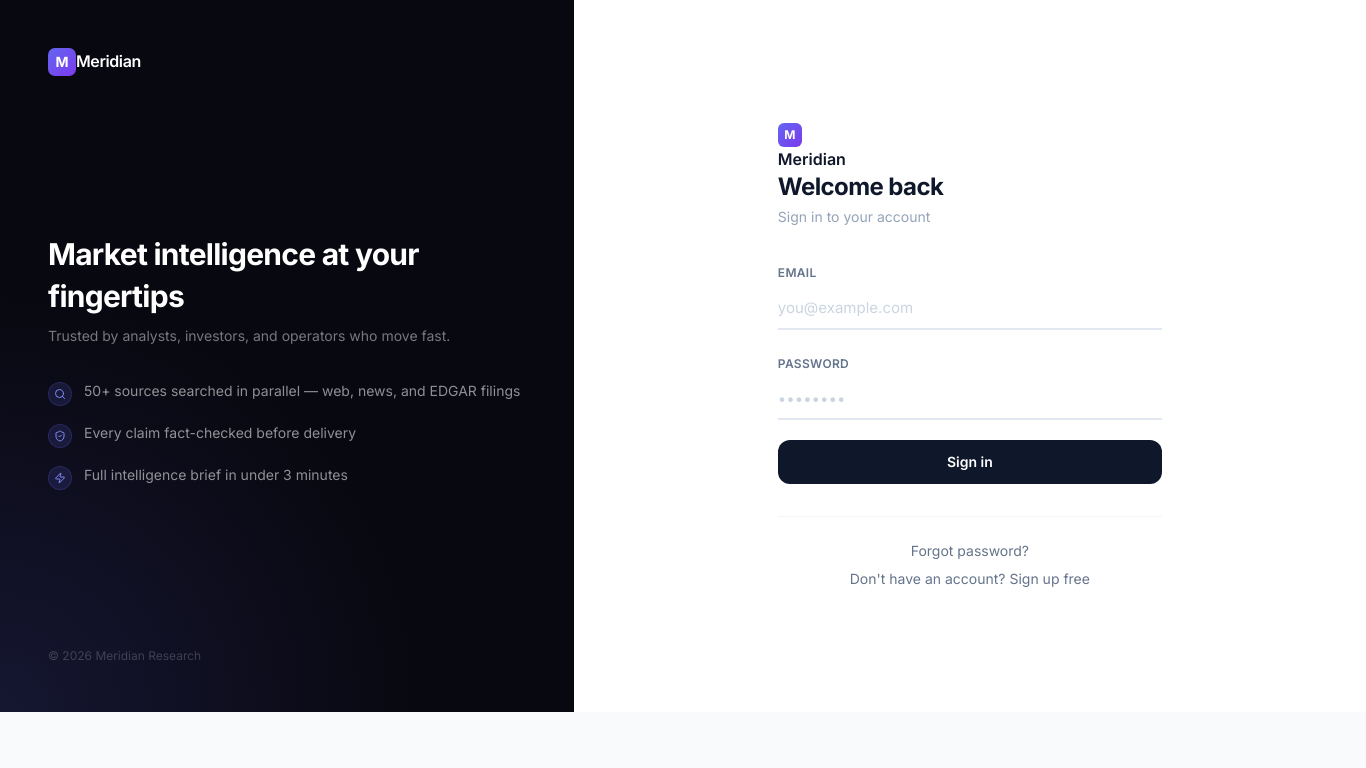
Scenario: LoginPage › shows error message on failed login
Type "test@example.com" into the field labelled "Email". click: point(970, 309)
box: [778,289,1162,330]
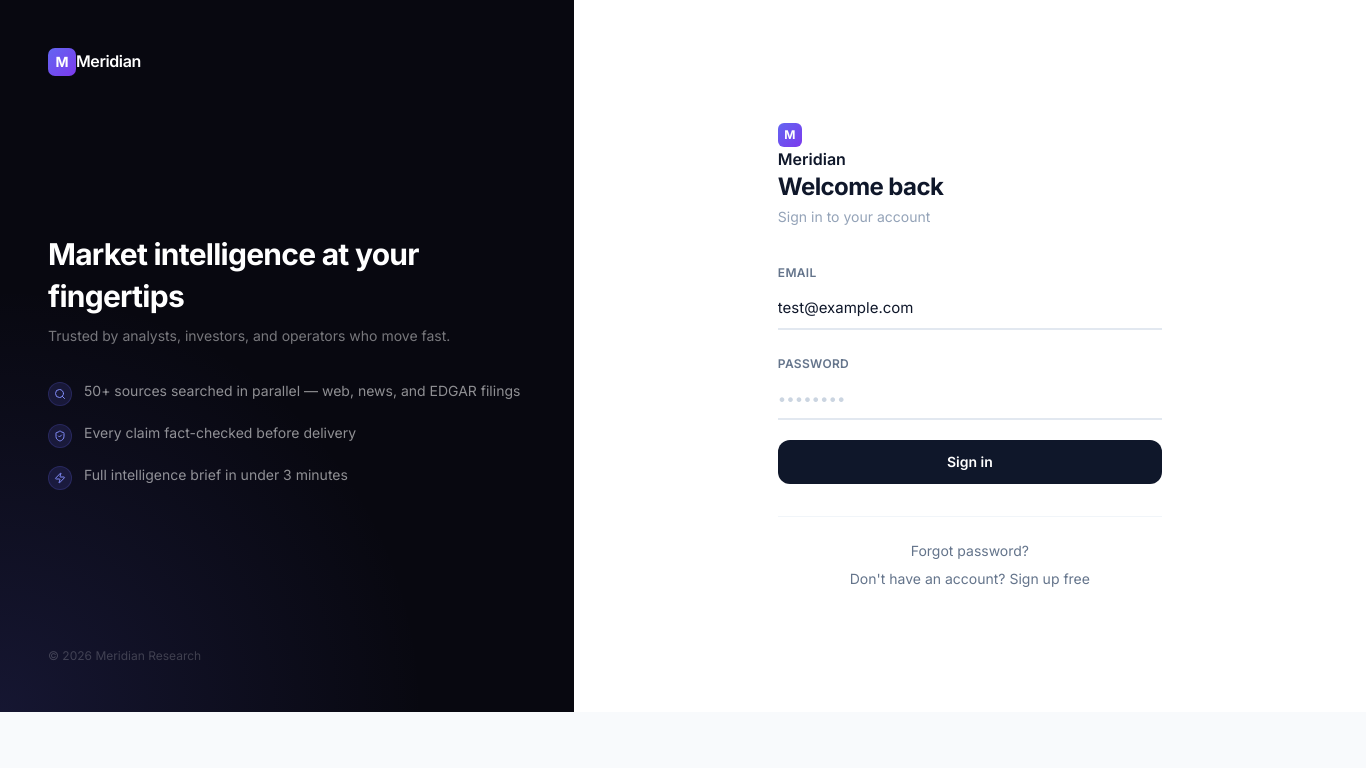
Type "wrongpassword" into the password field labelled "Password". click: point(970, 400)
box: [778,380,1162,420]
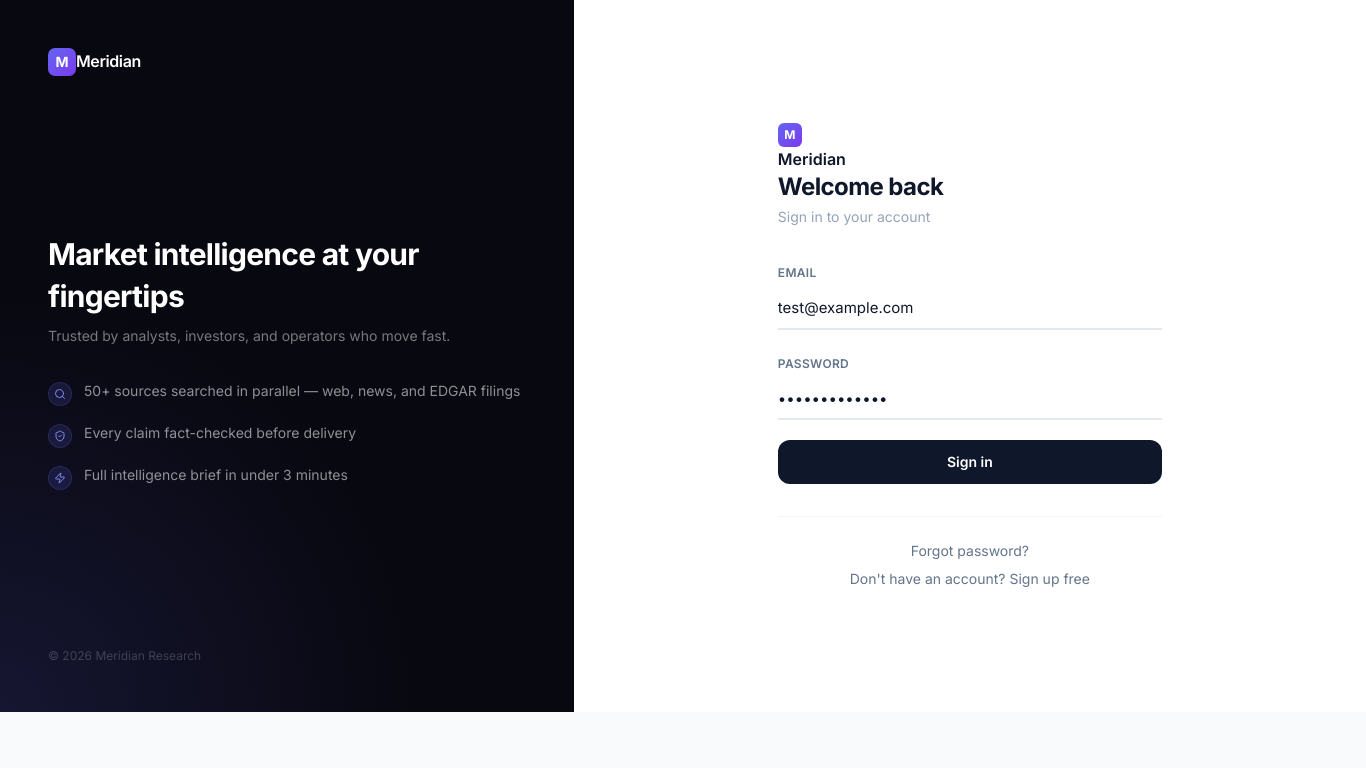
Click the button "Sign in". click: point(970, 462)
box: [778,440,1162,484]
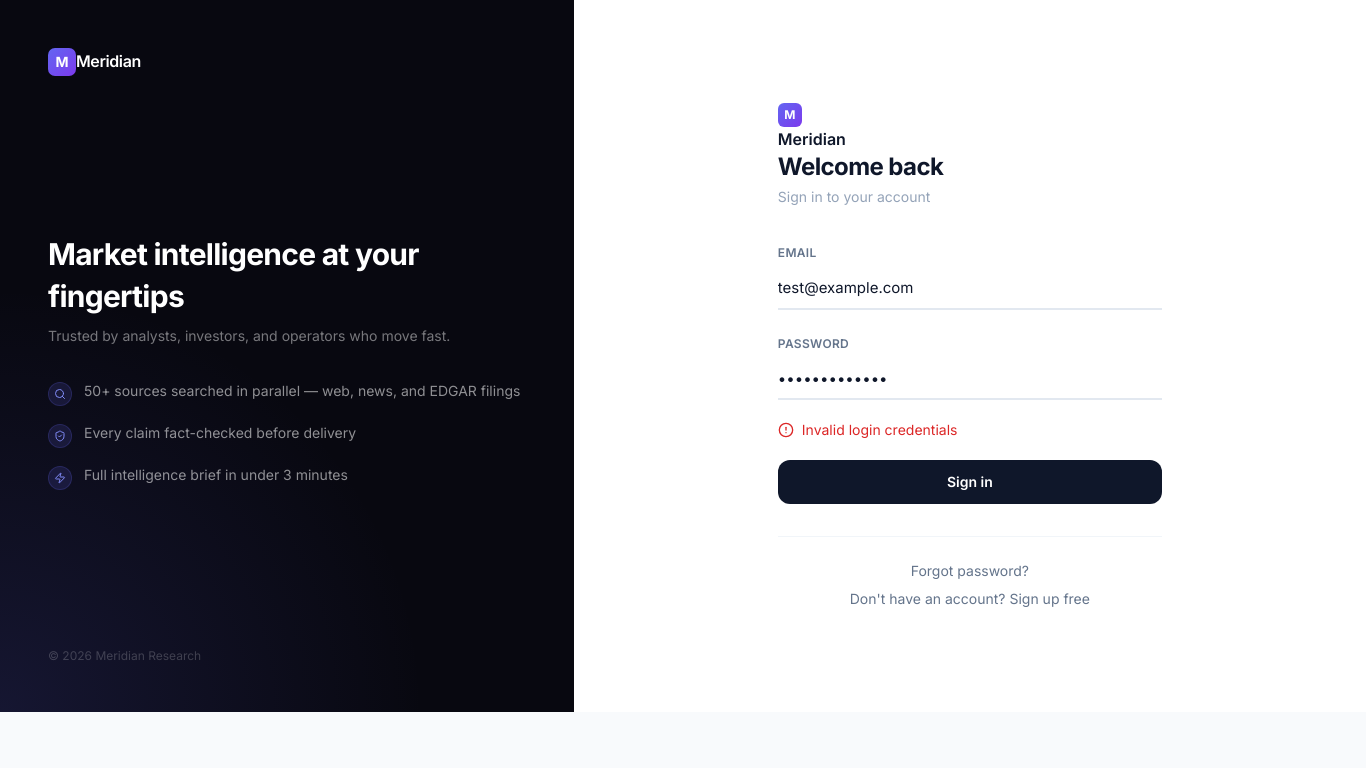
expect the message reads "Invalid login credentials": met, box [802,421,958,438]
